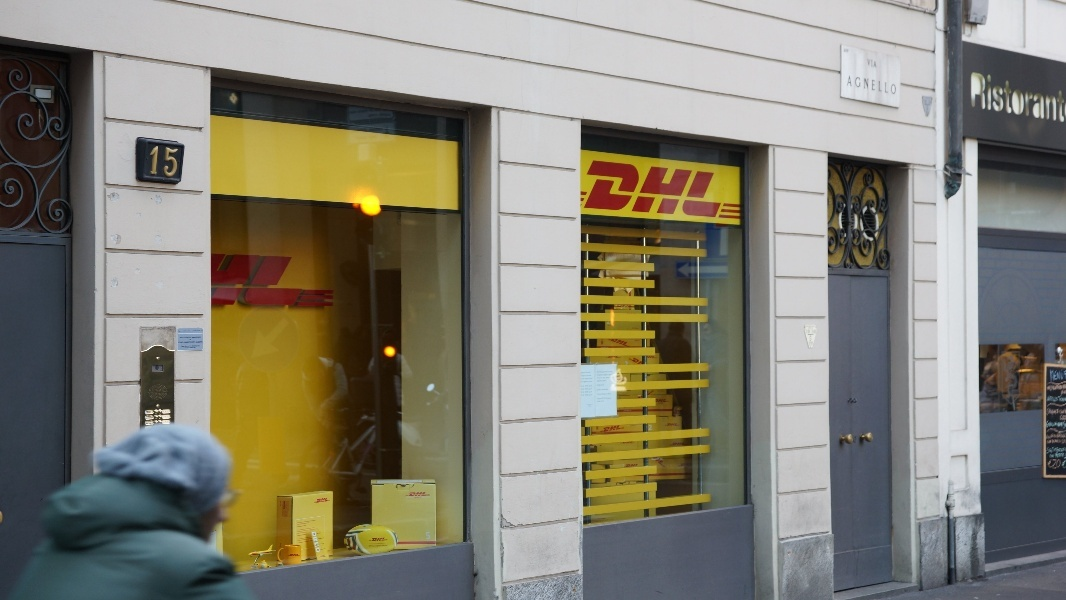text: (609, 160, 624, 219), (625, 160, 640, 219), (641, 160, 656, 219), (657, 160, 672, 219), (673, 160, 688, 219), (689, 160, 704, 219), (705, 160, 720, 219), (594, 160, 608, 219), (977, 71, 992, 122), (993, 71, 1008, 122), (1009, 71, 1024, 122), (1025, 71, 1040, 122), (1041, 71, 1056, 122), (161, 144, 176, 179), (1057, 71, 1065, 122), (849, 76, 864, 95), (865, 76, 880, 95), (881, 76, 896, 95), (152, 144, 160, 179), (972, 71, 976, 122), (721, 160, 723, 219), (868, 59, 880, 68), (609, 425, 622, 433), (614, 338, 624, 348), (1057, 370, 1064, 382), (1047, 420, 1056, 429), (1057, 420, 1066, 429), (1057, 460, 1066, 469), (1050, 370, 1056, 382), (1057, 408, 1066, 416), (177, 144, 179, 179), (625, 338, 632, 348), (673, 442, 687, 447), (1048, 408, 1056, 416), (1047, 384, 1056, 391), (1057, 384, 1066, 391), (1049, 460, 1056, 469), (1048, 447, 1056, 454), (1057, 447, 1065, 454), (626, 464, 640, 468), (1057, 396, 1066, 402), (1047, 434, 1056, 440), (1057, 434, 1066, 440), (417, 492, 427, 497), (1048, 396, 1056, 402), (1057, 439, 1066, 444), (1057, 453, 1064, 459), (1048, 439, 1056, 444), (427, 532, 432, 540), (635, 357, 640, 365), (603, 425, 608, 433), (1050, 453, 1056, 459), (372, 538, 384, 541), (321, 498, 328, 503), (409, 492, 416, 497), (657, 399, 668, 402), (680, 463, 688, 467), (1061, 415, 1066, 421), (290, 554, 304, 556), (1062, 390, 1066, 396), (641, 357, 643, 365), (317, 498, 320, 503), (667, 423, 672, 426), (673, 423, 678, 426), (689, 463, 692, 467), (385, 538, 386, 541), (655, 399, 656, 402)
